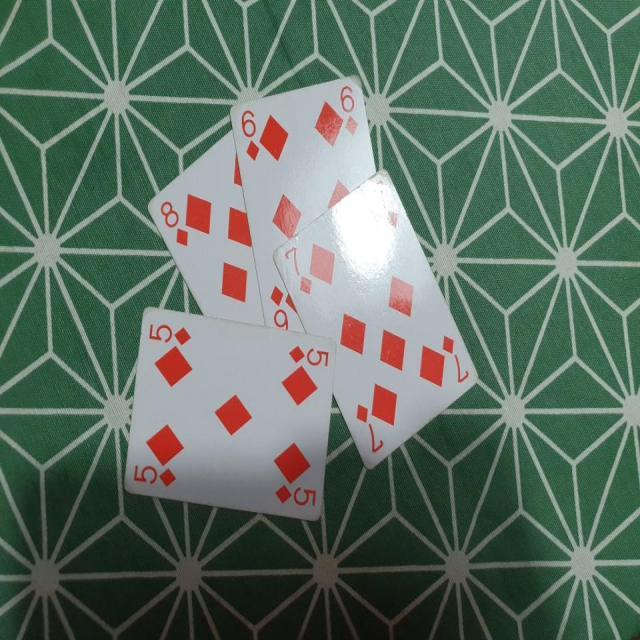5 of diamonds: (122, 306, 336, 522)
6 of diamonds: (230, 77, 376, 326)
7 of diamonds: (272, 165, 481, 472)
8 of diamonds: (146, 130, 266, 326)
